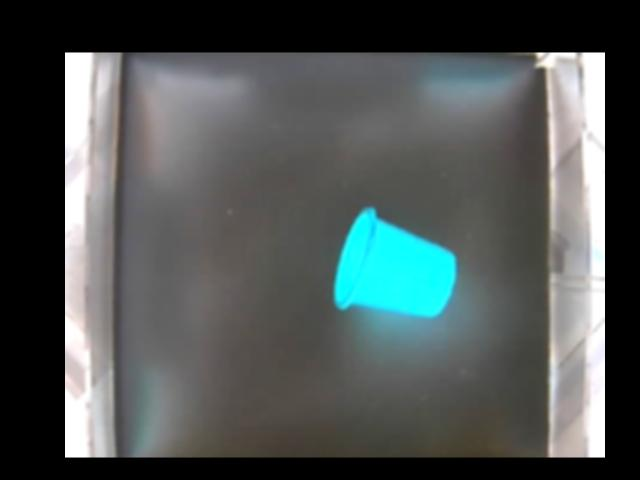Cup: (332, 207, 459, 321)
